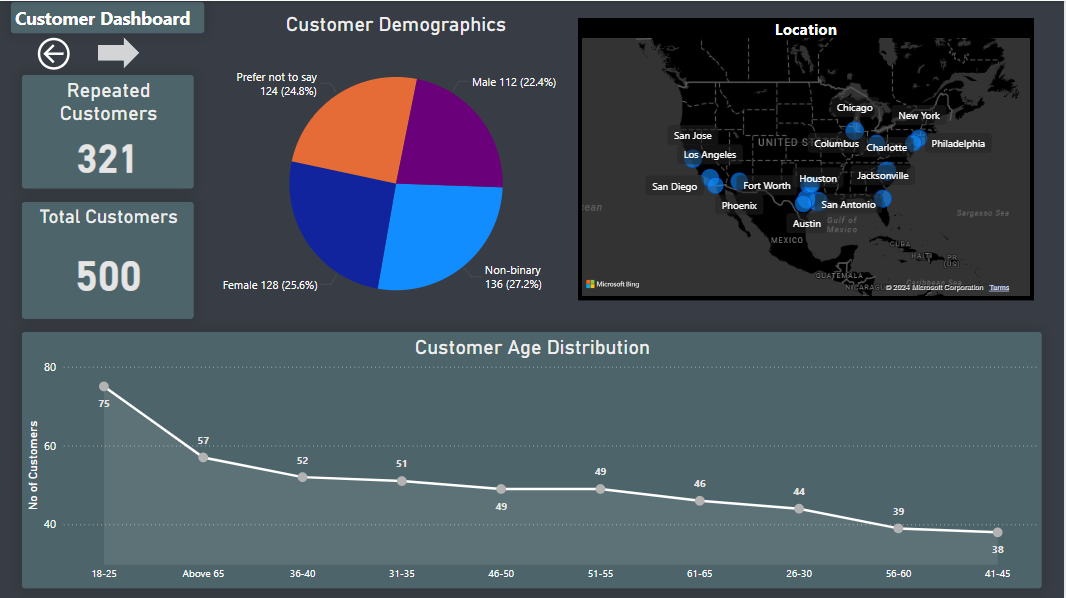

Layout of this report page (visuals, bound fields, positions):
{"tool":"powerbi","page":{"name":"Customer Dashboard","canvas":[1280,720],"ordinal":2},"visuals":[{"type":"lineChart","title":"Customer Age Distribution","fields":{"Y":["CountNonNull(customers.customer_id)"],"Category":["customers.Age Group"]},"box":[25,396.8,1229.8,311.4],"z":0},{"type":"card","title":"Total Customers","fields":{"Values":["CountNonNull(customers.customer_id)"]},"box":[25,240.4,208.9,143.2],"z":1000},{"type":"card","title":"Repeated Customers","fields":{"Values":["customers.Repeat Customers"]},"box":[25,88,208.9,139.3],"z":2000},{"type":"pieChart","title":"Customer Demographics","fields":{"Category":["customers.gender"],"Y":["CountNonNull(customers.customer_id)"]},"box":[233.9,9.3,486.5,393.4],"z":3000},{"type":"textbox","box":[12,0,235.3,39.9],"z":4000},{"type":"map","title":"Location","fields":{"Category":["customers.location"],"Size":["CountNonNull(customers.customer_id)"]},"box":[696.5,19.9,549,340.3],"z":5000},{"type":"actionButton","box":[39.4,38.1,103.8,49.9],"z":5001},{"type":"shape","box":[118.2,43.4,49.9,38.1],"z":5002}]}

Visuals, with their boxes in screenshot pixels (x1, y1, x2, y2), scaled from the page's 1280x720 canvas onto the 1066x598 screenshot:
"Customer Age Distribution" lineChart: 21/330/1045/588
"Total Customers" card: 21/200/195/319
"Repeated Customers" card: 21/73/195/189
"Customer Demographics" pieChart: 195/8/600/334
textbox: 10/0/206/33
"Location" map: 580/17/1037/299
actionButton: 33/32/119/73
shape: 98/36/140/68
